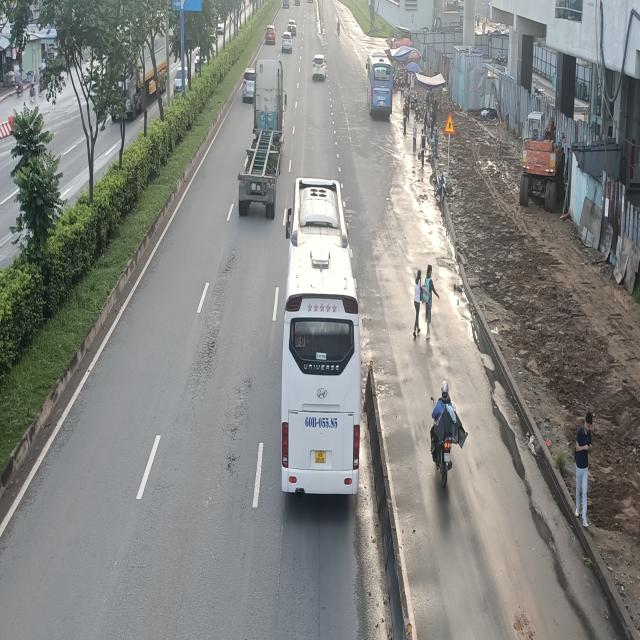coach: (281, 175, 361, 498), (367, 47, 392, 116)
container: (236, 57, 283, 216)
